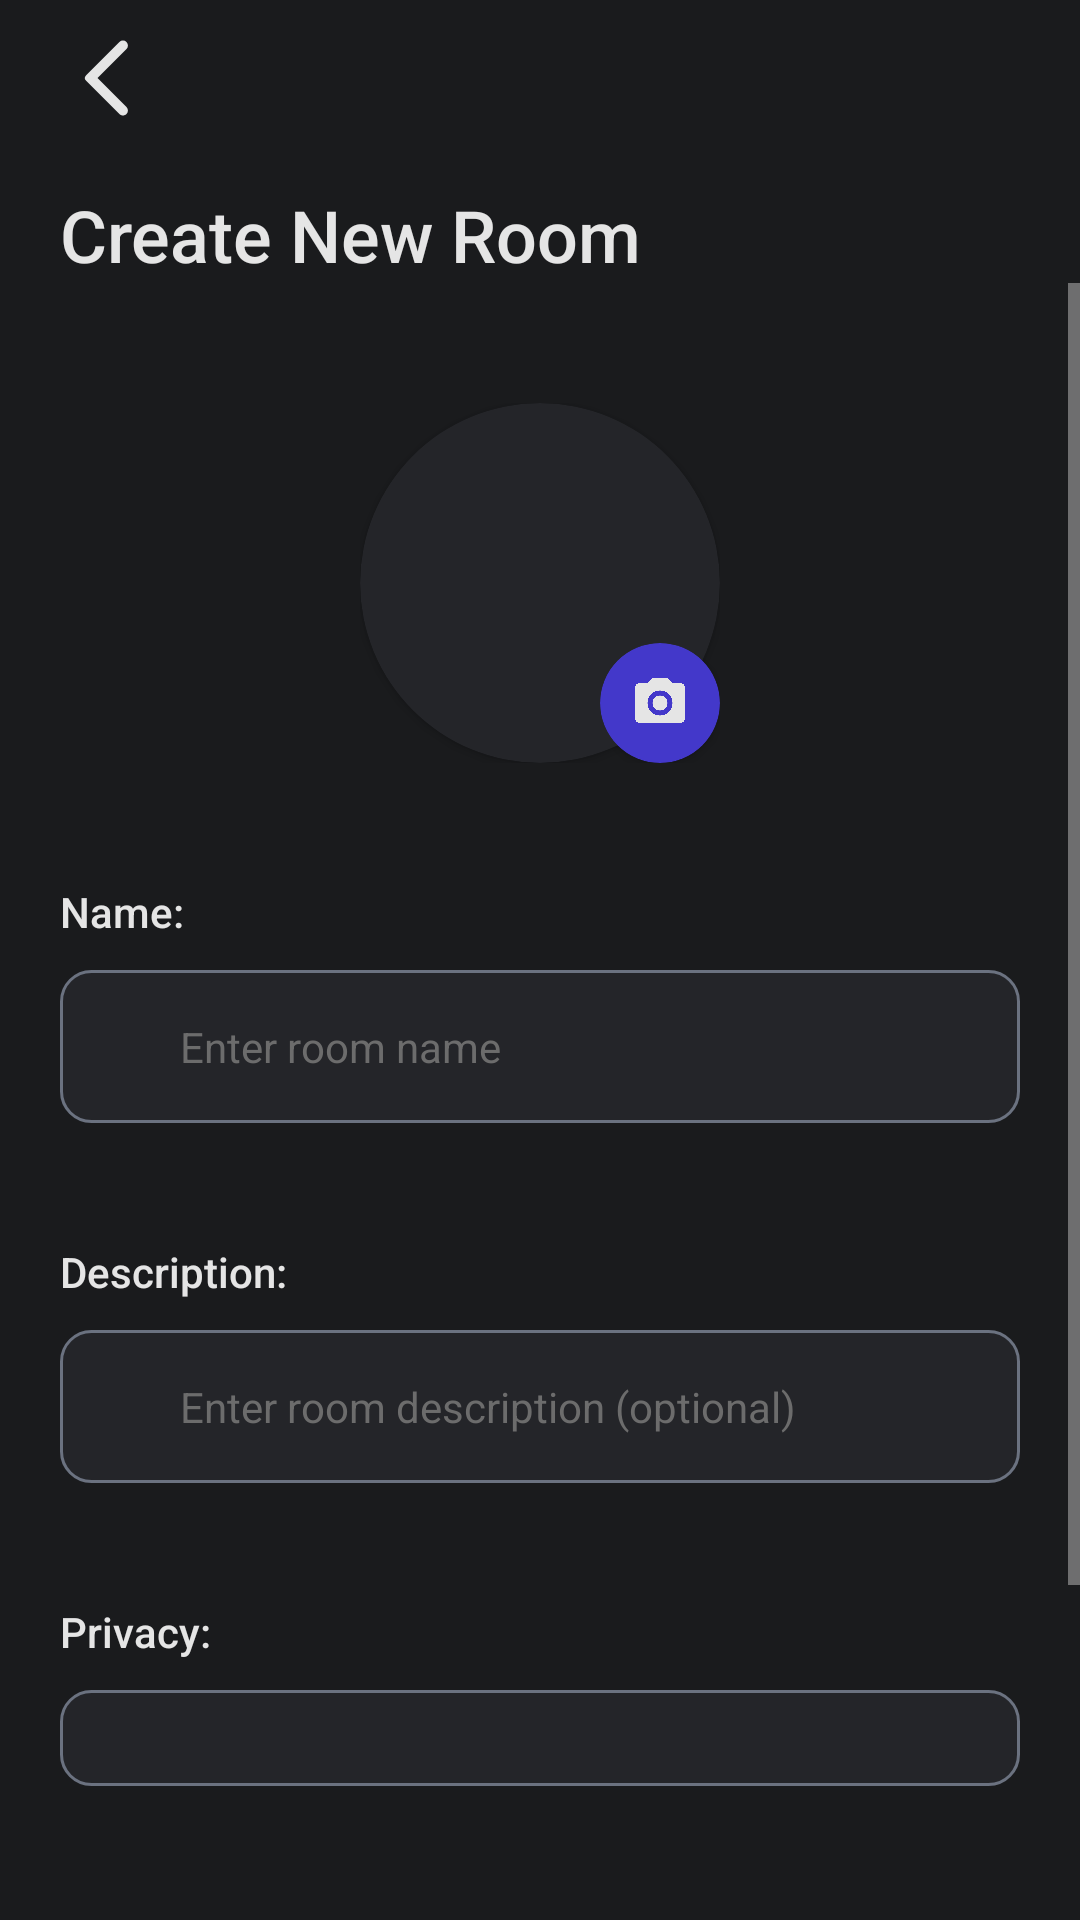

Where icons sit on this 1080 x 1920 app screen, as (x1, y1, x2, y2):
camera: (635, 678, 685, 723)
left arrow: (84, 40, 128, 116)
